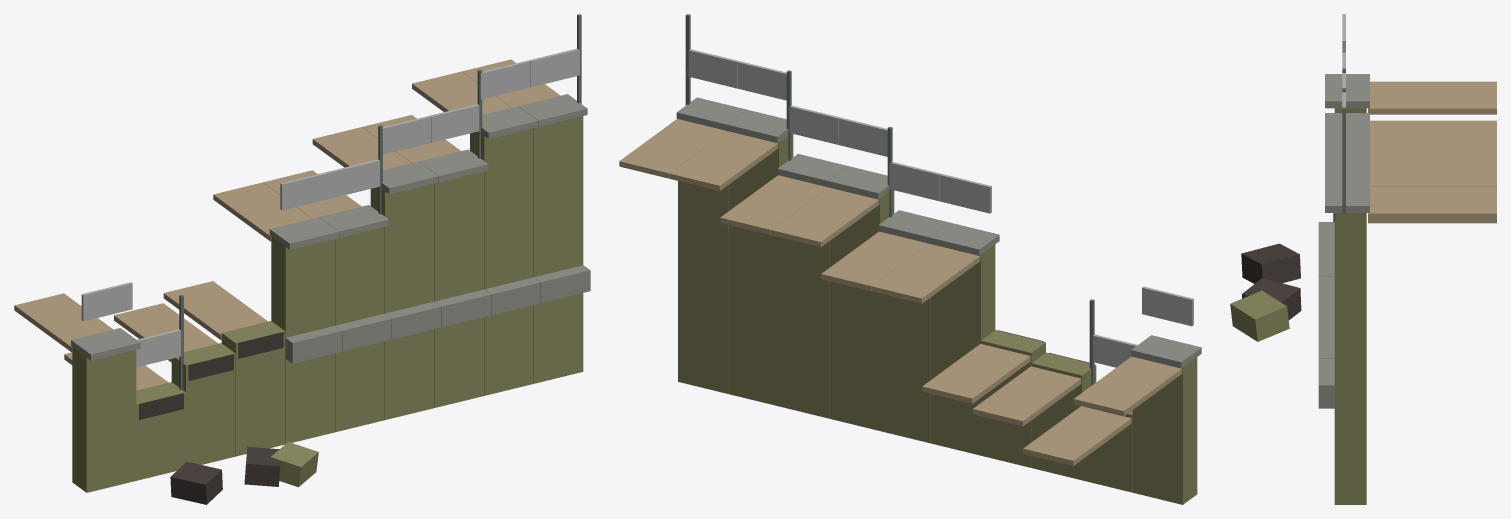
File: SM_MuroRampa_v4_Escalonado_e2_MuyDanado_LOD1.fbx
The picture shows the model from 3 angles, left to right: view 1: azimuth 30°, elevation 25°; view 2: azimuth 150°, elevation 25°; view 3: azimuth 270°, elevation 25°; orthographic projection. The views are drawn at different scales.
Parts seen in each view (by area): view 1: SM_muro_rampa_v18_LOD1; view 2: SM_muro_rampa_v18_LOD1; view 3: SM_muro_rampa_v18_LOD1.
Part boxes in pixels (<box>): SM_muro_rampa_v18_LOD1: <box>14,14,590,504</box>; SM_muro_rampa_v18_LOD1: <box>619,14,1201,504</box>; SM_muro_rampa_v18_LOD1: <box>1230,14,1496,504</box>.
Size of the model in its own units: 10.03 by 6.83 by 4.14.
